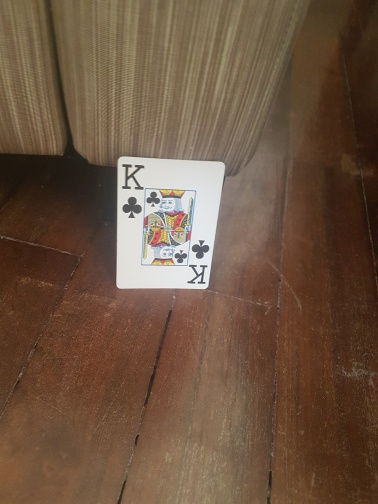king: (115, 155, 226, 288)
